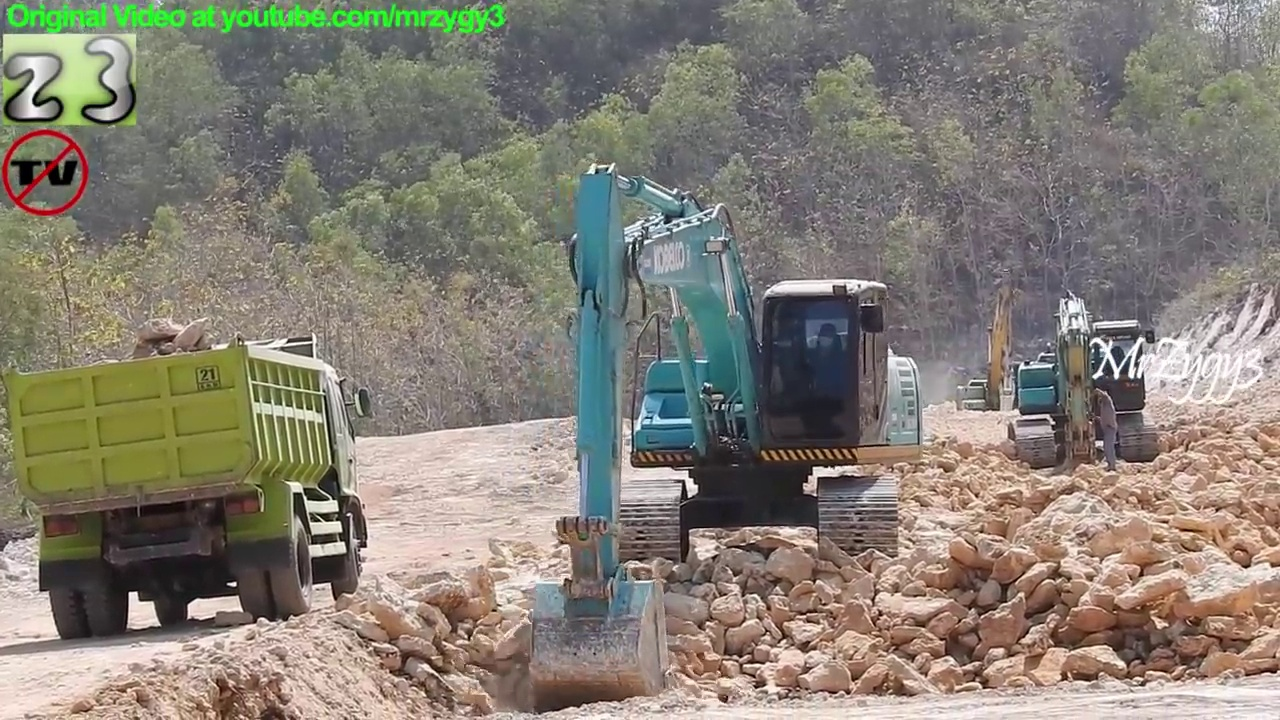excavator: (522, 154, 933, 720), (950, 271, 1054, 427)
excavator breaker: (998, 281, 1169, 482)
truck: (1, 329, 377, 645)
worker: (1079, 375, 1134, 476)
